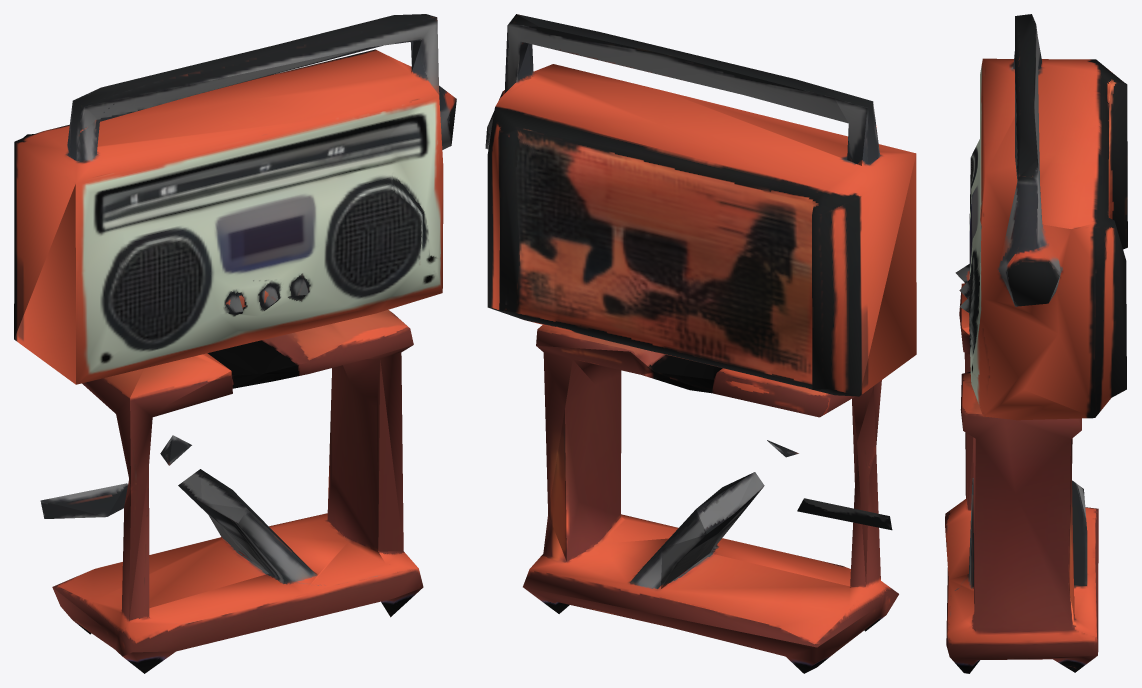
Rendered from broken-radio.glb.
3 renders of one model, left to right at view 1: azimuth 30°, elevation 25°; view 2: azimuth 150°, elevation 25°; view 3: azimuth 270°, elevation 25°, orthographic. The views are drawn at different scales.
Parts seen in each view (by area): view 1: geometry_0.001; view 2: geometry_0.001; view 3: geometry_0.001.
Boxes of the visible parts, <box> form: geometry_0.001: <box>14,14,456,673</box>; geometry_0.001: <box>485,14,916,673</box>; geometry_0.001: <box>945,14,1127,673</box>.
Bounding box in the file's own units: 0.747 × 1 × 0.3116.
Materials: 1 (1 with a texture image).
